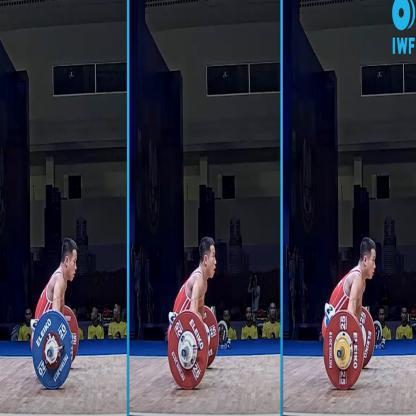barbell: (30, 302, 81, 394), (168, 305, 220, 393), (323, 308, 376, 391)
